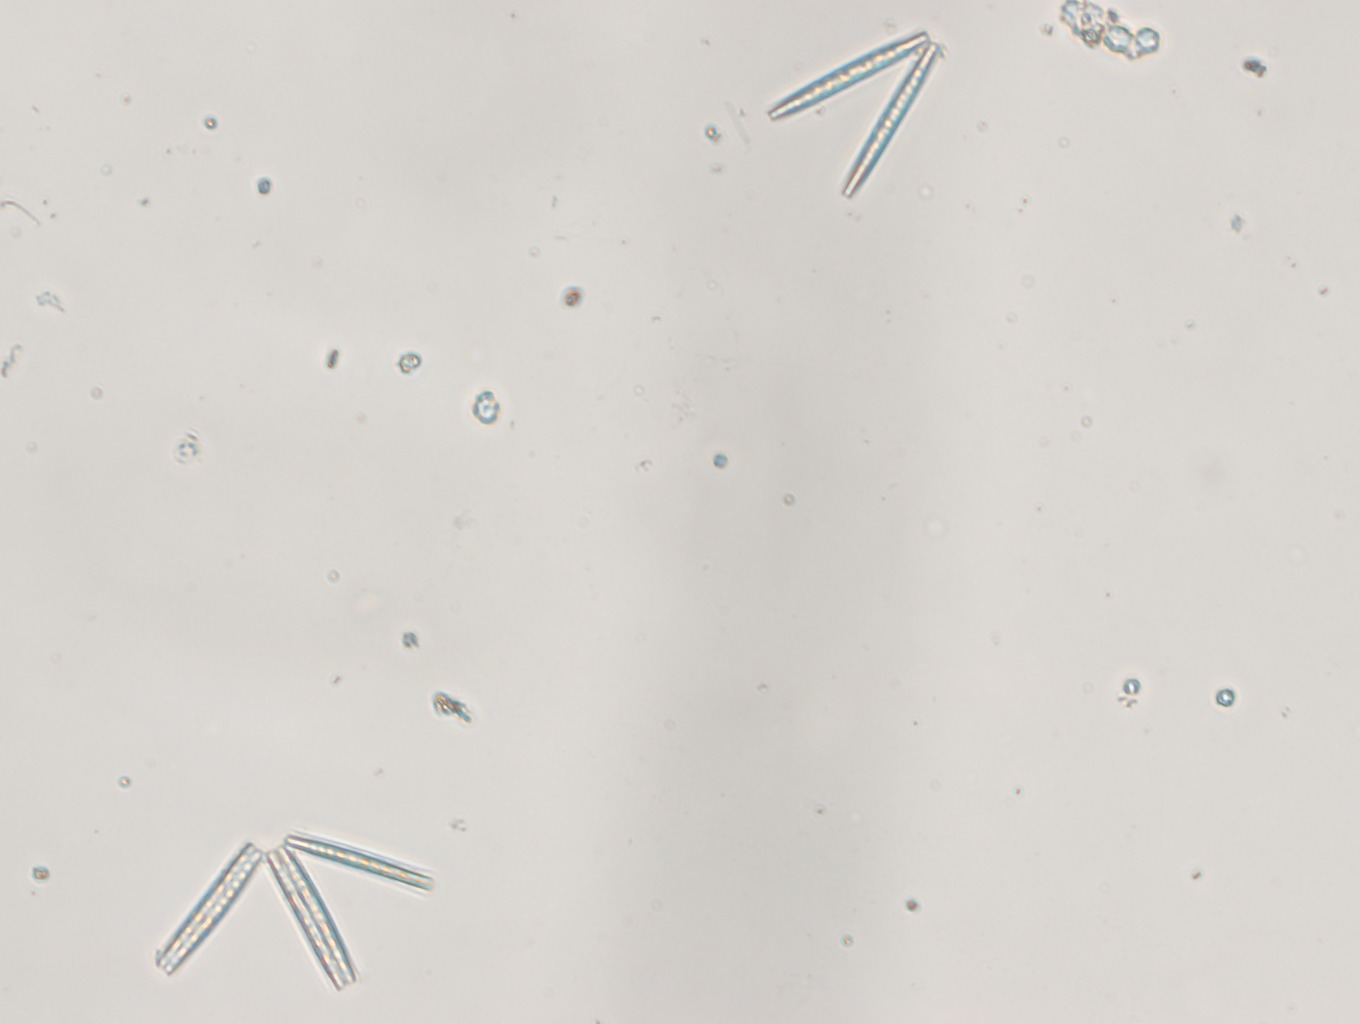thalassionema nitzschioides: (151, 833, 443, 996), (763, 27, 956, 205)
